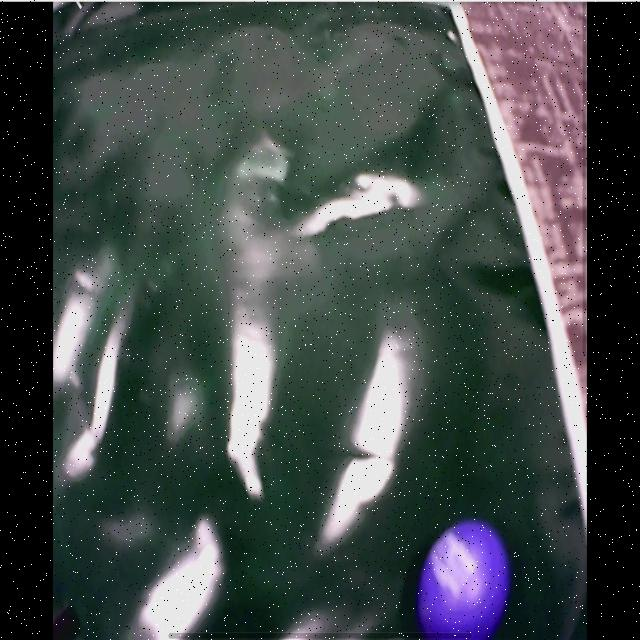ball: (419, 524, 506, 638)
